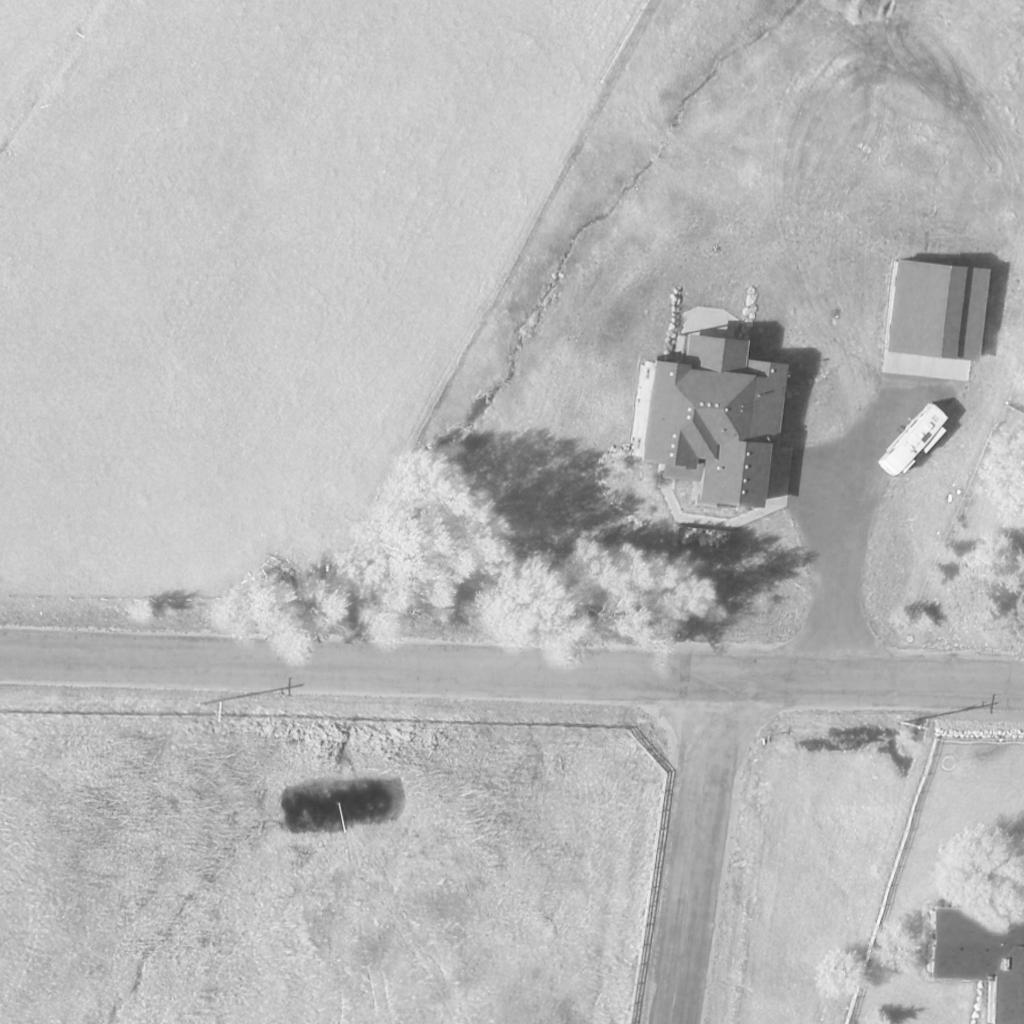vehicle: (873, 406, 957, 482)
